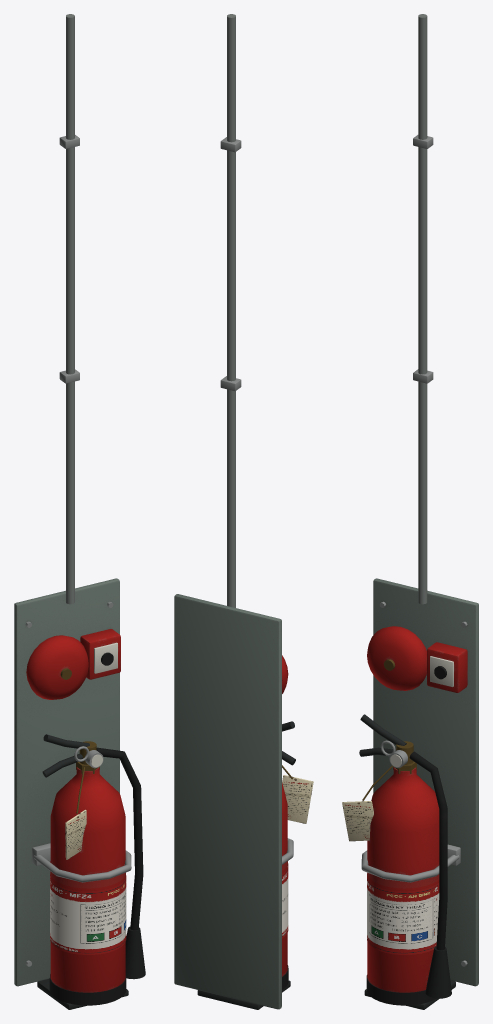
The model's file is CTCC_PROP_FireExtinguisher.fbx.
The picture shows the model from 3 angles, left to right: view 1: azimuth 30°, elevation 25°; view 2: azimuth 150°, elevation 25°; view 3: azimuth 330°, elevation 25°; orthographic projection.
Parts seen in each view (by area): view 1: CTCC_PROP_FireExtinguisher_LOD0; view 2: CTCC_PROP_FireExtinguisher_LOD0; view 3: CTCC_PROP_FireExtinguisher_LOD0.
Boxes of the visible parts, x1=… form: CTCC_PROP_FireExtinguisher_LOD0: x1=14, y1=14, x2=145, y2=1009; CTCC_PROP_FireExtinguisher_LOD0: x1=174, y1=14, x2=313, y2=1009; CTCC_PROP_FireExtinguisher_LOD0: x1=342, y1=14, x2=478, y2=1009.
Size of what is drawn, in the model's own units: 0.25 by 2.23 by 0.1865.
